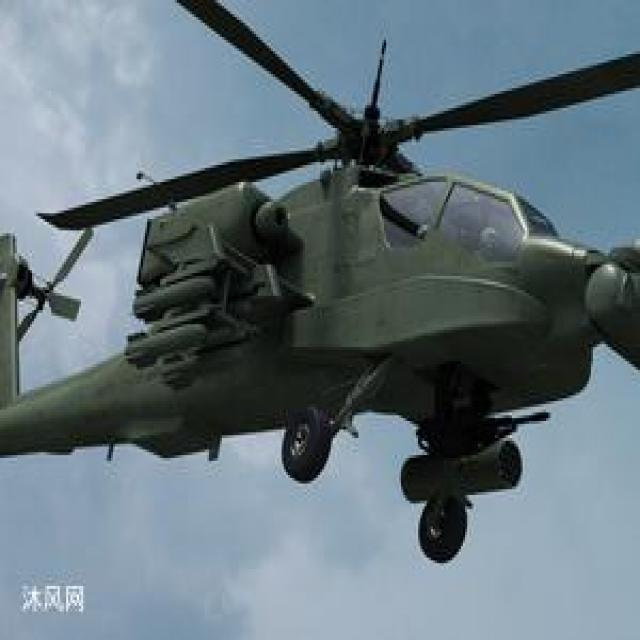MIL_HELO: (2, 1, 640, 563)
